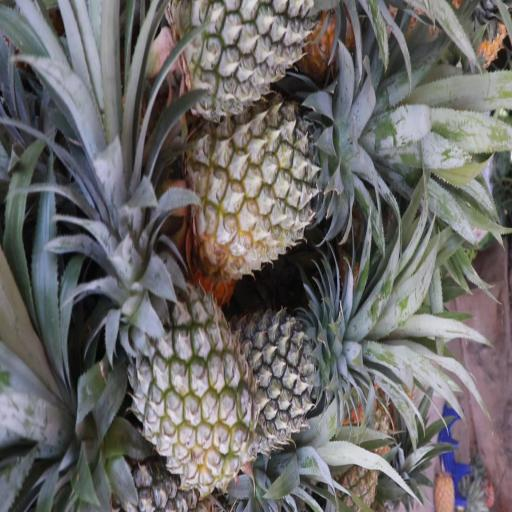------------------------------: (134, 294, 252, 488), (192, 113, 334, 269)
